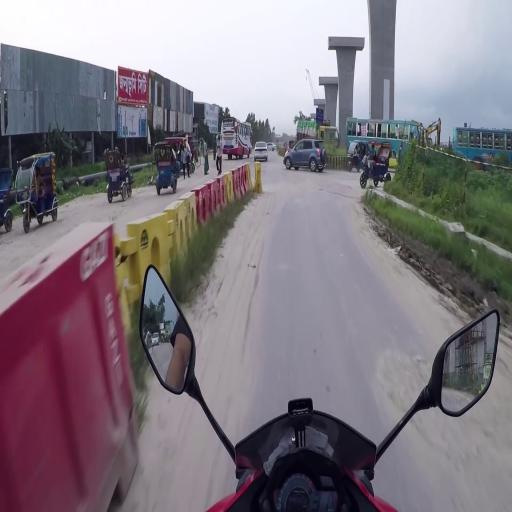auto rickshaw: (16, 151, 60, 233), (172, 137, 195, 176), (347, 140, 370, 173)
bus: (347, 118, 425, 162), (453, 126, 512, 171), (222, 117, 254, 161)
car: (284, 139, 329, 174), (256, 141, 269, 162), (267, 141, 277, 152)
motorbike: (139, 269, 502, 512)
rickshaw: (104, 146, 132, 201), (361, 144, 392, 188), (155, 140, 178, 196), (3, 168, 15, 234)
truck: (298, 121, 341, 149)
